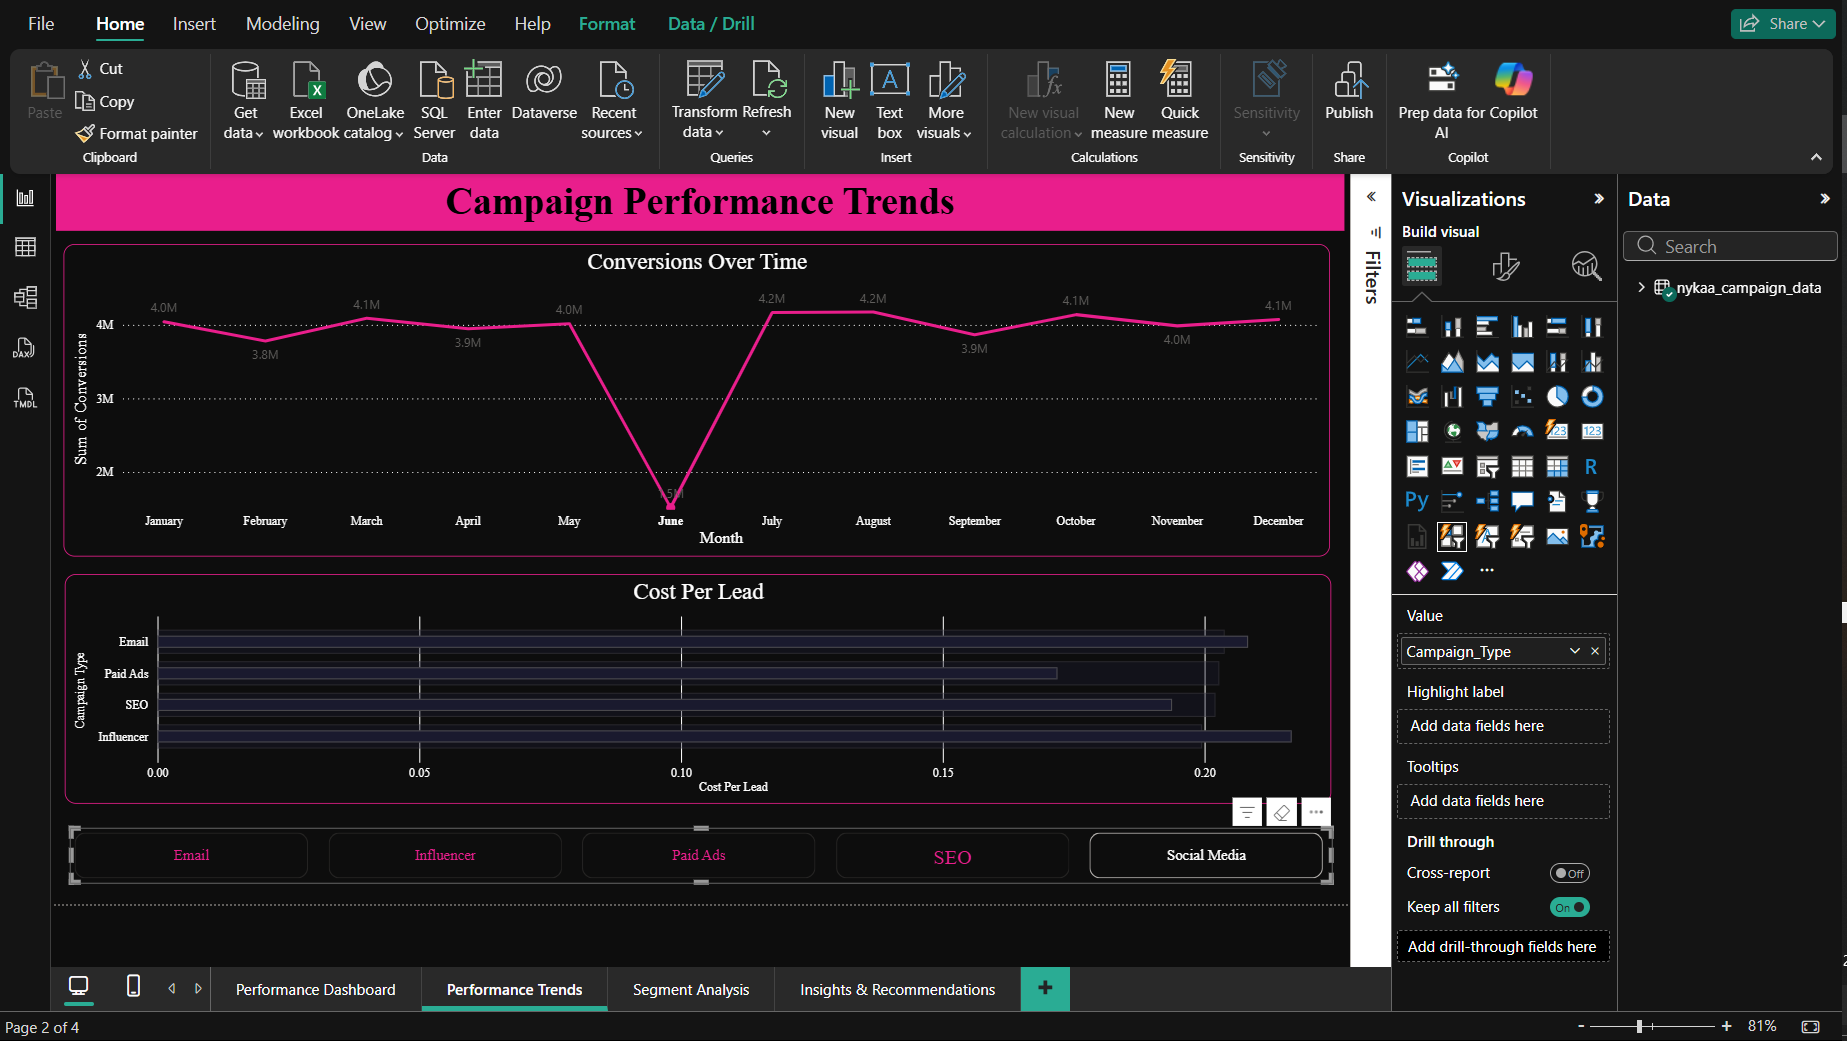

Layout of this report page (visuals, bound fields, positions):
{"tool":"powerbi","page":{"name":"Performance Trends","canvas":[1280,720],"ordinal":1},"visuals":[{"type":"lineChart","title":"Conversions Over Time","fields":{"Y":["Sum(nykaa_campaign_data.Conversions)"],"Category":["nykaa_campaign_data.Date.Variation.Date Hierarchy.Month"]},"box":[12.3,69,1247.7,307.9],"z":0},{"type":"textbox","box":[5.3,0,1269.4,55.8],"z":1000},{"type":"clusteredBarChart","title":"Cost Per Lead","fields":{"Category":["nykaa_campaign_data.Campaign_Type"],"Y":["nykaa_campaign_data.Cost Per Lead"]},"box":[13.5,394.2,1247.7,226.6],"z":2000},{"type":"advancedSlicerVisual","title":"Campaign Type","fields":{"Values":["nykaa_campaign_data.Campaign_Type"]},"box":[18.5,644.2,1244,55.4],"z":3000}]}

Visuals, with their boxes on the page's 1280x720 design canvas (x1, y1, x2, y2). These are canvas units, not pixel positions in the 1847x1041 screenshot, which may show the page scaled, cropped or inside an application window:
"Conversions Over Time" lineChart: 12,69,1260,377
textbox: 5,0,1275,56
"Cost Per Lead" clusteredBarChart: 14,394,1261,621
"Campaign Type" advancedSlicerVisual: 18,644,1262,700
